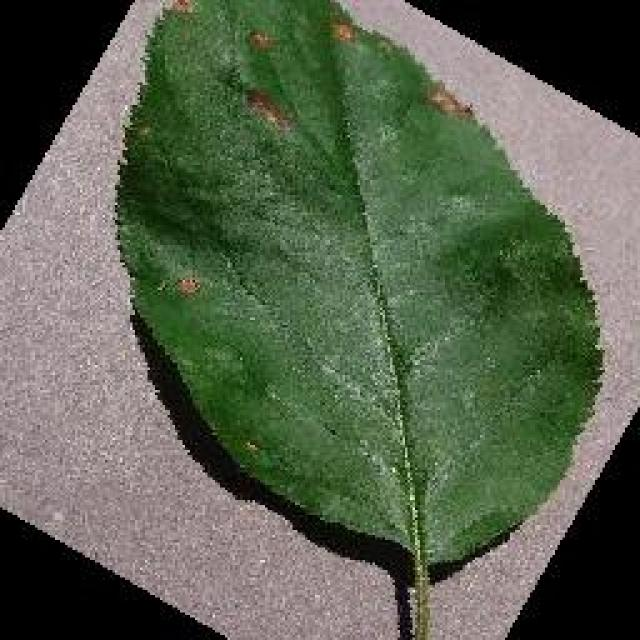Black_rot: (110, 0, 605, 585)
